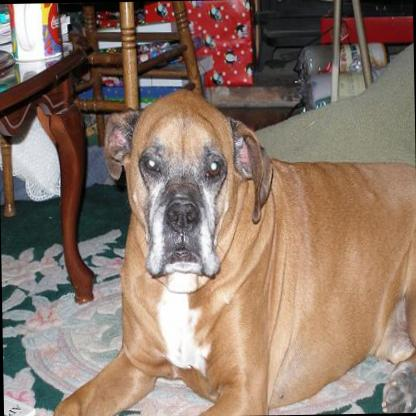boxer: (46, 81, 416, 416)
